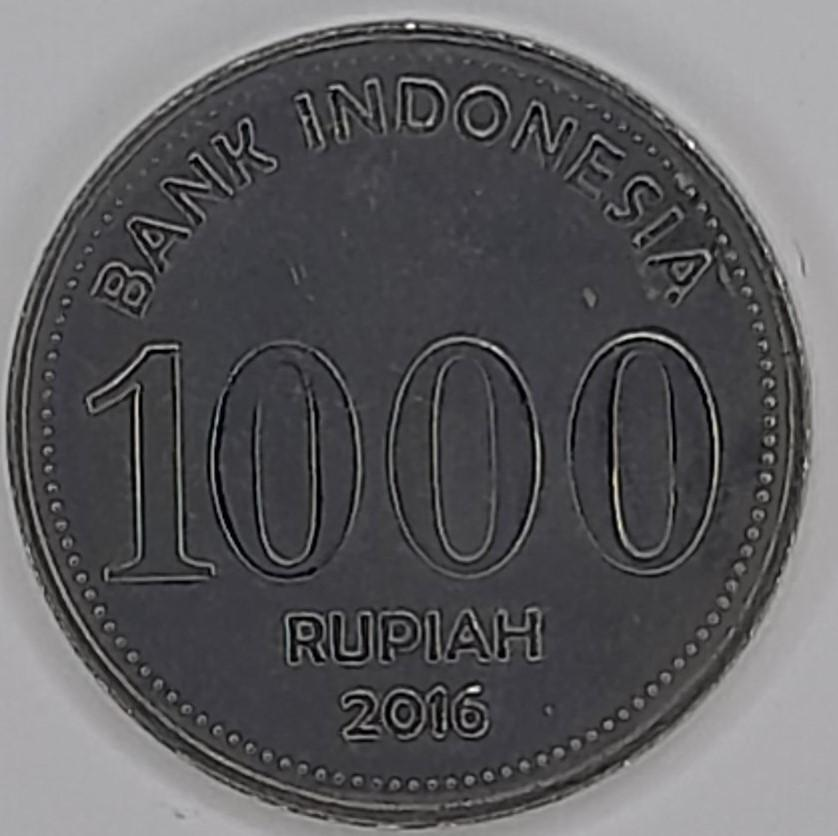coin_1000_e2016: (14, 17, 827, 836)
